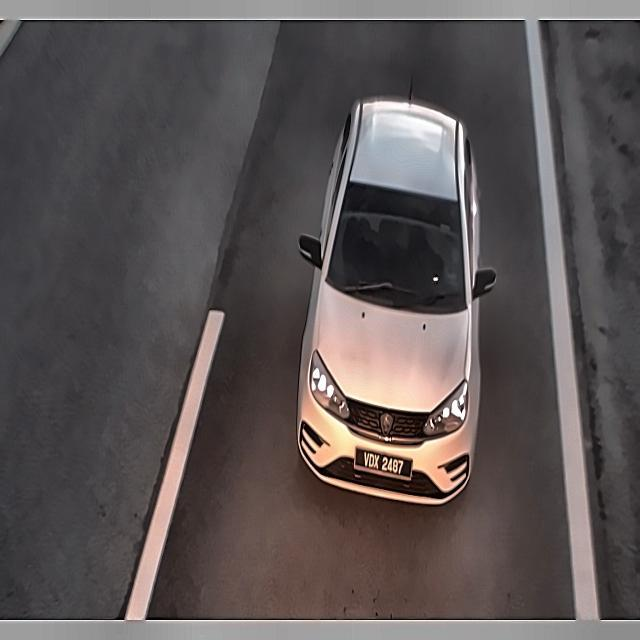car: (351, 441, 417, 485)
